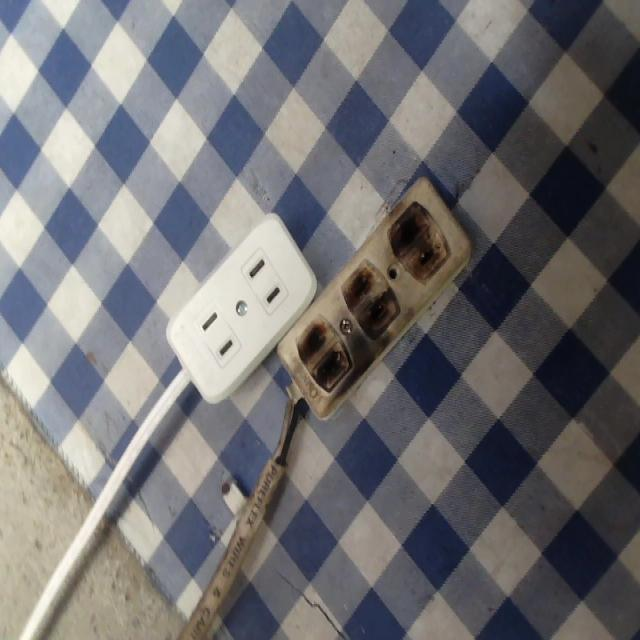-: (339, 246, 397, 342), (387, 197, 447, 287), (297, 310, 347, 398)
